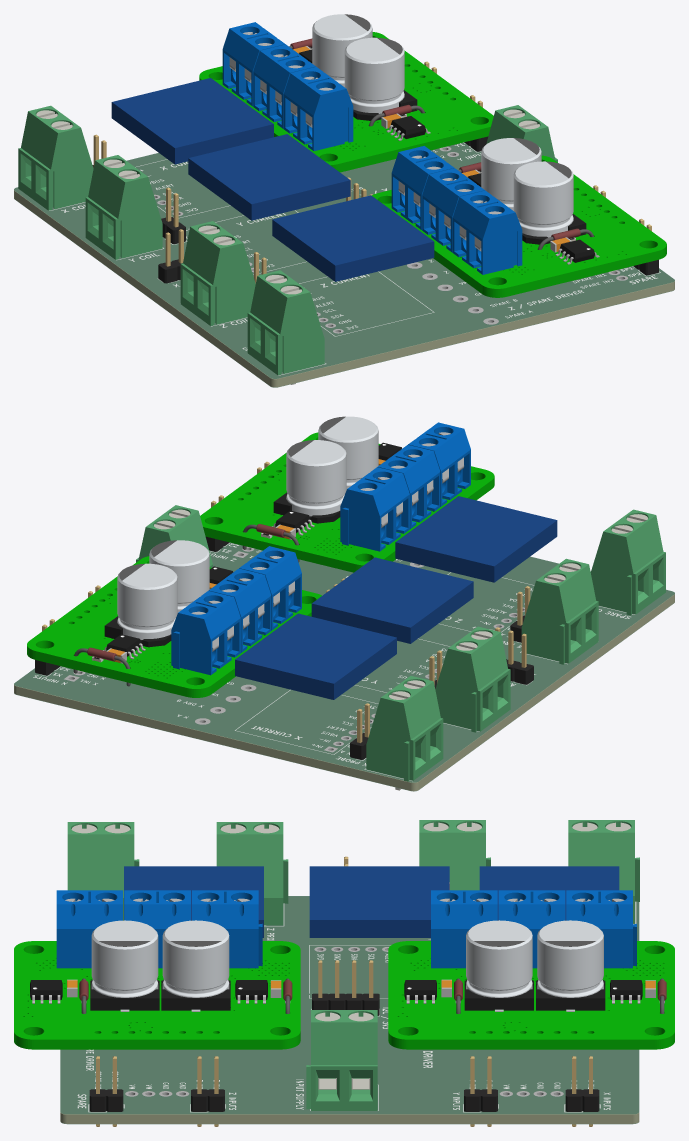
The model's file is board.glb.
3 views of the same model, one above another, from view 1: azimuth 30°, elevation 25°; view 2: azimuth 150°, elevation 25°; view 3: azimuth 270°, elevation 25° (orthographic). The views are drawn at different scales.
Visible parts, largest first — view 1: =>[0:1:1:62], =>[0:1:1:60], =>[0:1:1:7] (×5), INA226_CJMCU_21x19_PROVISIONAL (Shell) (×3), =>[0:1:1:12] (×2), =>0:1:1:15 (×2), =>0:1:1:25 (×2), =>0:1:1:20 (×2), =>0:1:1:18 (×2), =>0:1:1:22 (×2), =>[0:1:1:58], =>0:1:1:27 (×2) (+4 smaller); view 2: =>[0:1:1:62], =>[0:1:1:60], =>[0:1:1:7] (×5), INA226_CJMCU_21x19_PROVISIONAL (Shell) (×3), =>[0:1:1:12] (×2), =>0:1:1:20 (×2), =>0:1:1:22 (×2), =>0:1:1:18 (×2), =>0:1:1:15 (×2), =>0:1:1:25 (×2), =>[0:1:1:58], =>0:1:1:30 (×2) (+4 smaller); view 3: =>[0:1:1:62], =>[0:1:1:60], =>[0:1:1:12] (×2), =>[0:1:1:7] (×5), INA226_CJMCU_21x19_PROVISIONAL (Shell) (×3), =>0:1:1:22 (×2), =>0:1:1:25 (×2), =>0:1:1:15 (×2), =>0:1:1:20 (×2), =>0:1:1:18 (×2), =>[0:1:1:5] (×4), =>[0:1:1:58] (+5 smaller).
Boxes of the visible parts, x1,y1,x2,y2 form: =>[0:1:1:62]: (14, 143, 674, 387); =>[0:1:1:60]: (14, 142, 674, 378); =>[0:1:1:7] (×5): (18, 105, 557, 384); INA226_CJMCU_21x19_PROVISIONAL (Shell) (×3): (111, 78, 434, 281); =>[0:1:1:12] (×2): (199, 32, 666, 297); =>0:1:1:15 (×2): (283, 67, 522, 274); =>0:1:1:25 (×2): (344, 37, 586, 244); =>0:1:1:20 (×2): (222, 22, 454, 229); =>0:1:1:18 (×2): (253, 44, 484, 252); =>0:1:1:22 (×2): (312, 14, 541, 210); =>[0:1:1:58]: (49, 142, 660, 375); =>0:1:1:27 (×2): (386, 116, 599, 264); =>[0:1:1:62]: (14, 543, 674, 791); =>[0:1:1:60]: (14, 542, 674, 782); =>[0:1:1:7] (×5): (136, 505, 665, 790); INA226_CJMCU_21x19_PROVISIONAL (Shell) (×3): (235, 496, 557, 699); =>[0:1:1:12] (×2): (27, 432, 494, 697); =>0:1:1:20 (×2): (171, 467, 409, 675); =>0:1:1:22 (×2): (104, 440, 346, 647); =>0:1:1:18 (×2): (208, 445, 440, 652); =>0:1:1:15 (×2): (239, 422, 470, 630); =>0:1:1:25 (×2): (149, 416, 378, 613); =>[0:1:1:58]: (33, 542, 635, 781); =>0:1:1:30 (×2): (103, 510, 314, 659); =>[0:1:1:62]: (60, 897, 639, 1123); =>[0:1:1:60]: (60, 896, 639, 1114); =>[0:1:1:12] (×2): (14, 941, 674, 1049); =>[0:1:1:7] (×5): (67, 820, 639, 1110); INA226_CJMCU_21x19_PROVISIONAL (Shell) (×3): (124, 866, 619, 937); =>0:1:1:22 (×2): (161, 920, 605, 1011); =>0:1:1:25 (×2): (90, 920, 533, 1011); =>0:1:1:15 (×2): (56, 890, 497, 968); =>0:1:1:20 (×2): (192, 890, 636, 968); =>0:1:1:18 (×2): (124, 890, 565, 968); =>[0:1:1:5] (×4): (89, 1056, 599, 1126); =>[0:1:1:58]: (77, 901, 636, 1112).
Size of the model in its own units: 0.0776 by 0.024 by 0.0992.
